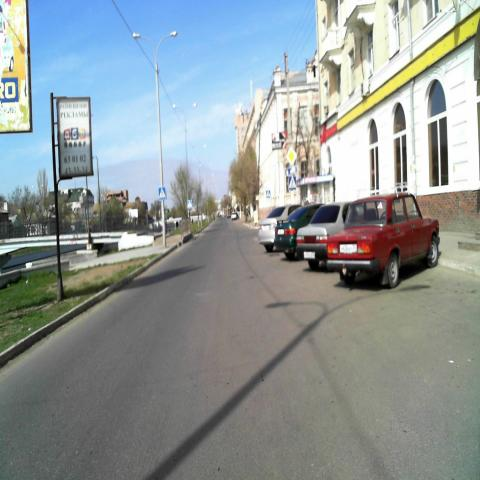2_1: (286, 146, 298, 166)
5_19_1: (158, 186, 167, 200), (288, 176, 296, 190)
